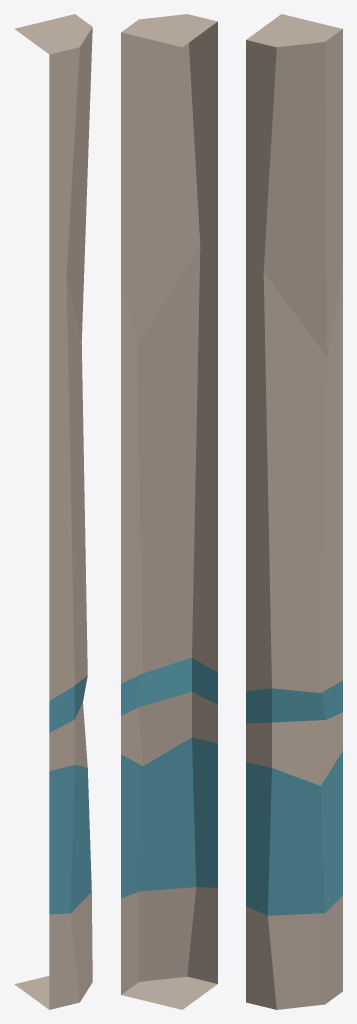
Rendered from greek_wall_3_corner.fbx.
3 views of the same model, side by side, from view 1: azimuth 30°, elevation 25°; view 2: azimuth 150°, elevation 25°; view 3: azimuth 330°, elevation 25° (orthographic).
Visible parts, largest first — view 1: Cube.055; view 2: Cube.055; view 3: Cube.055.
Boxes of the visible parts, <box> form: Cube.055: <box>14,14,92,1009</box>; Cube.055: <box>121,14,217,1009</box>; Cube.055: <box>246,14,342,1009</box>.
Size of the model in its own units: 20 by 300 by 20.
